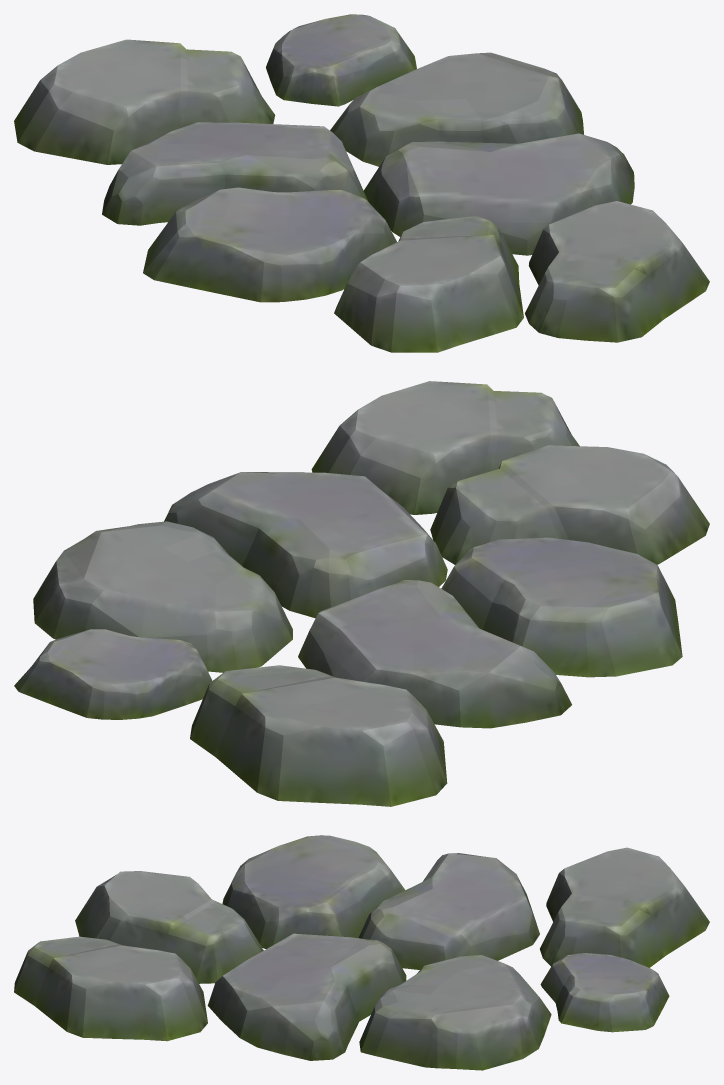
The model's file is path-stone-1.glb.
3 renders of one model, top to bottom at view 1: azimuth 30°, elevation 25°; view 2: azimuth 150°, elevation 25°; view 3: azimuth 270°, elevation 25°, orthographic. The views are drawn at different scales.
Parts seen in each view (by area): view 1: RockPath_Round_Small_1; view 2: RockPath_Round_Small_1; view 3: RockPath_Round_Small_1.
Boxes of the visible parts, <box> form: RockPath_Round_Small_1: <box>14,14,709,352</box>; RockPath_Round_Small_1: <box>14,381,709,806</box>; RockPath_Round_Small_1: <box>14,835,709,1070</box>.
Size of the model in its own units: 1.06 by 0.1128 by 1.48.
Materials: 1 (1 with a texture image).
